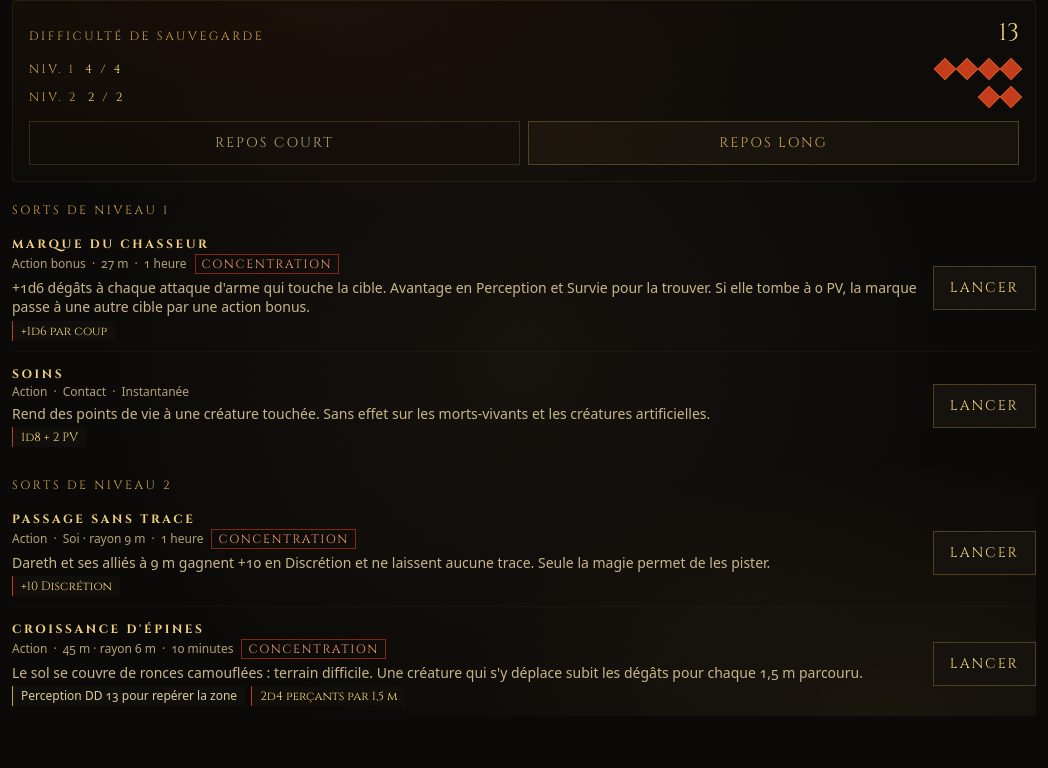
it: CodexSpells › désactive Lancer quand plus aucun emplacement suffisant
Click the button "Lancer" in the row of "27 m" at coordinates (984, 288), box [933,266,1036,310]
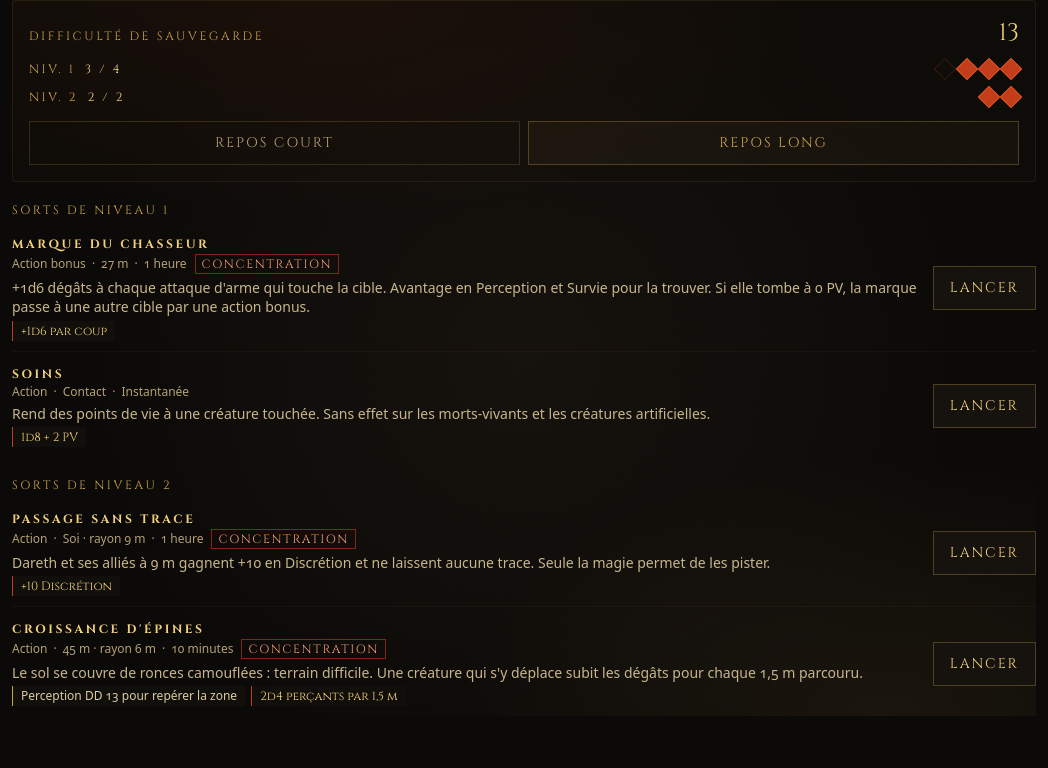
Click the button "Lancer" in the row of "27 m" at coordinates (984, 288), box [933,266,1036,310]
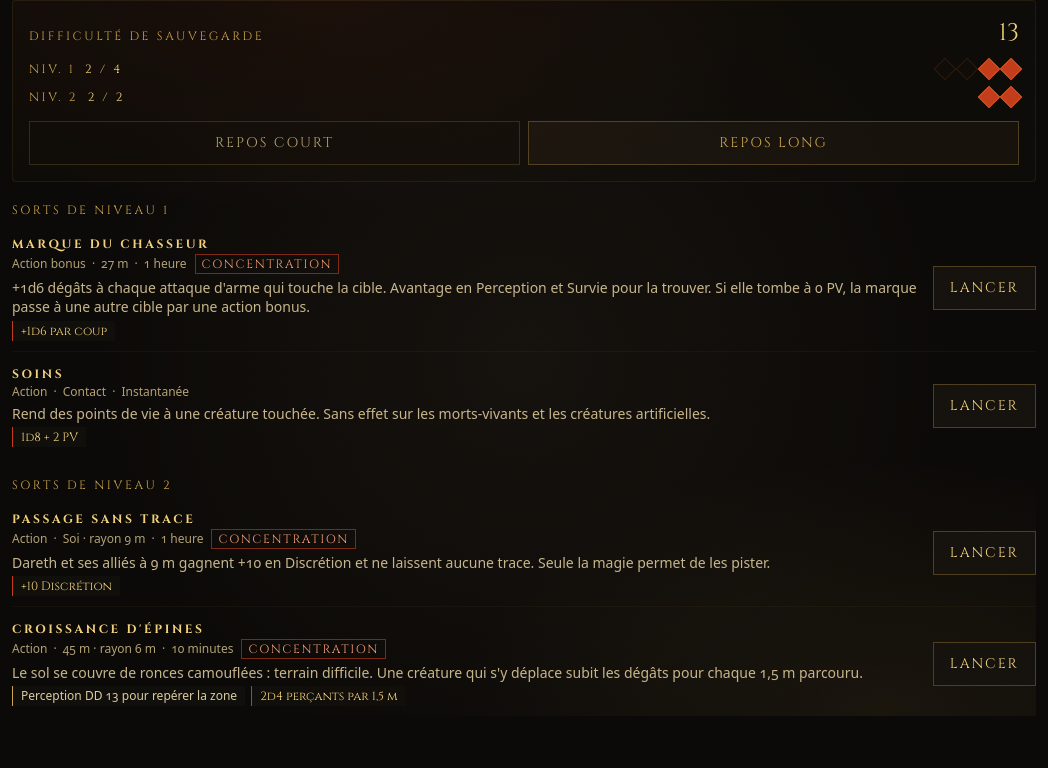
Click the button "Lancer" in the row of "27 m" at coordinates (984, 288), box [933,266,1036,310]
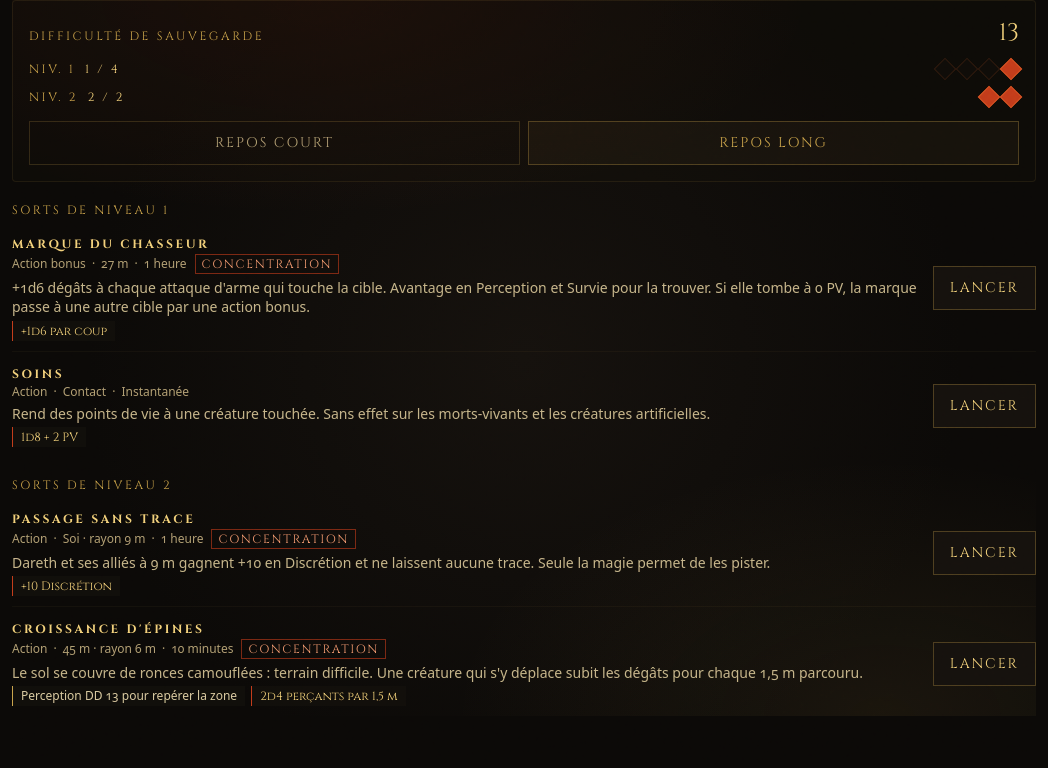
Click the button "Lancer" in the row of "27 m" at coordinates (984, 288), box [933,266,1036,310]
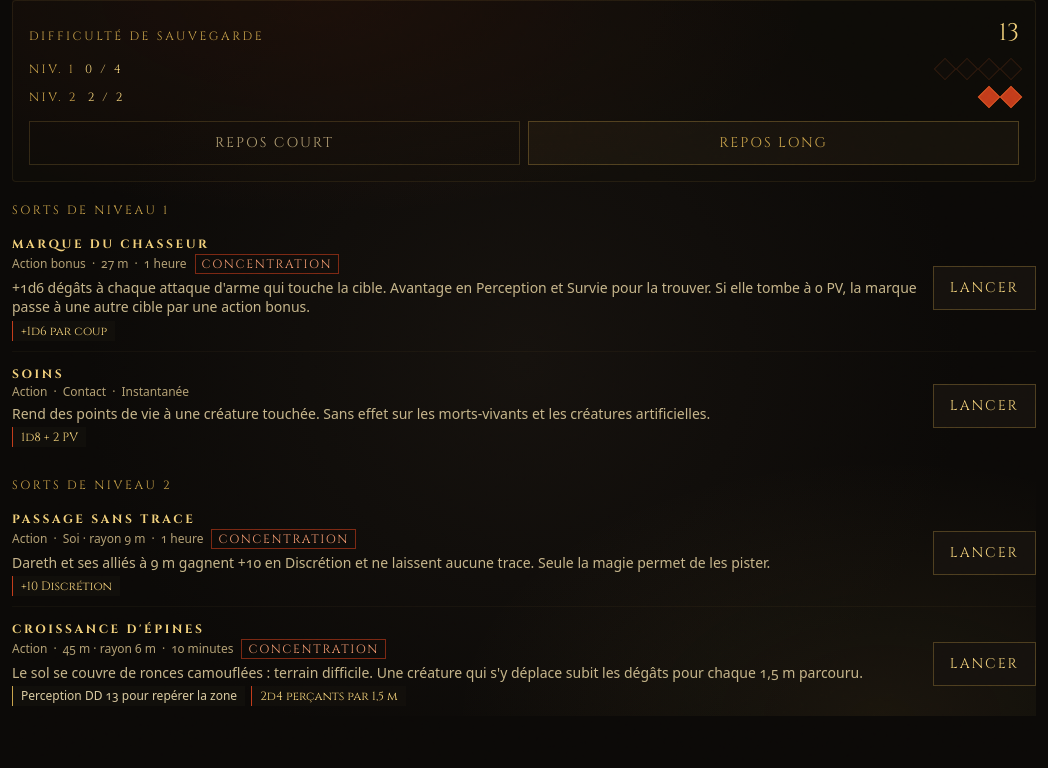
Click the button "Lancer" in the row of "27 m" at coordinates (984, 288), box [933,266,1036,310]
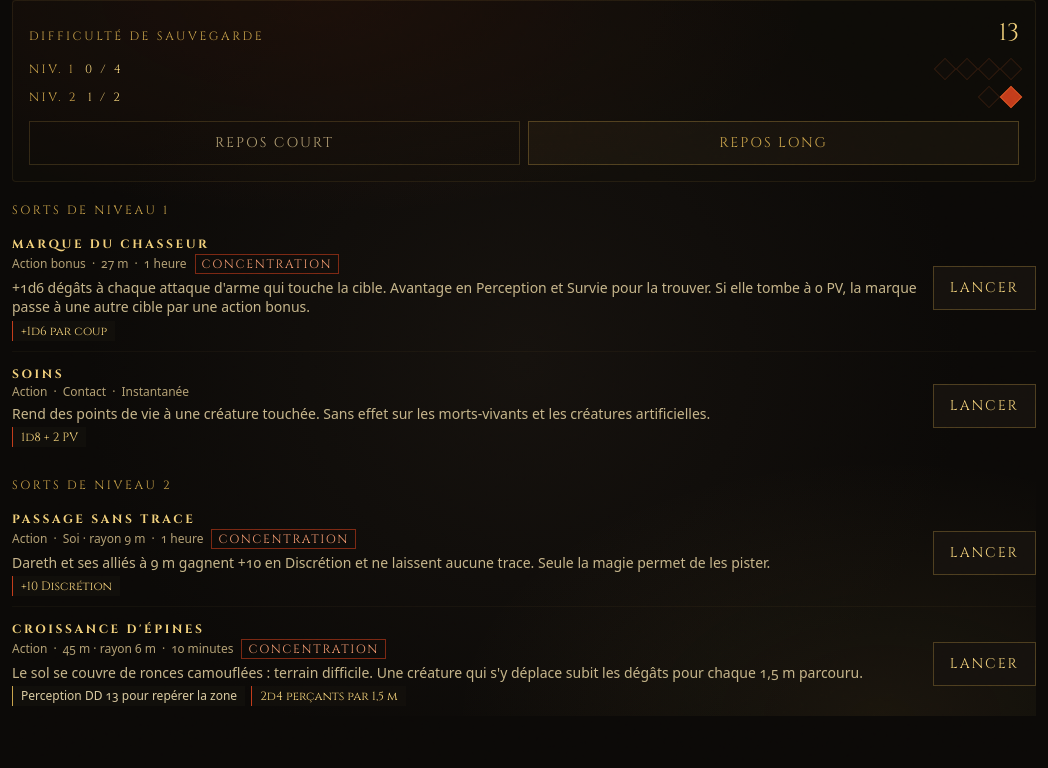
Click the button "Lancer" in the row of "27 m" at coordinates (984, 288), box [933,266,1036,310]
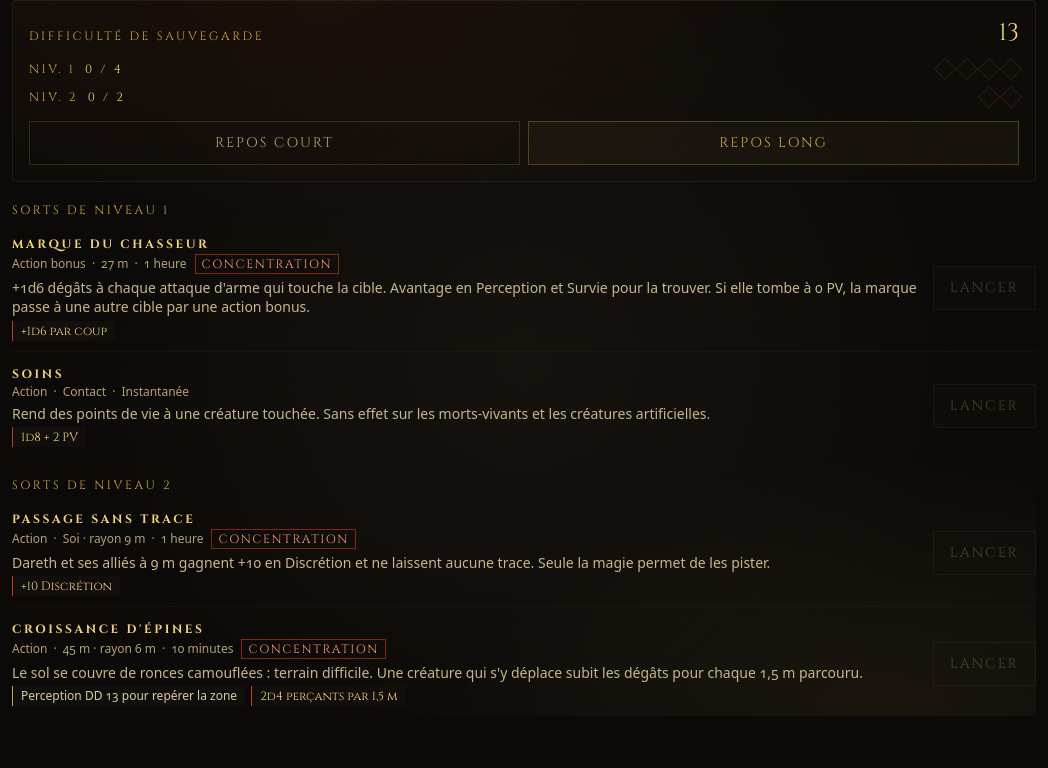
Expected: the button "Lancer" in the row of "27 m" is disabled, [933,266,1036,310]
Expected: the button "Lancer" in the row of "Contact" is disabled, [933,384,1036,428]
Expected: the button "Lancer" in the row of "Soi · rayon 9 m" is disabled, [933,531,1036,575]
